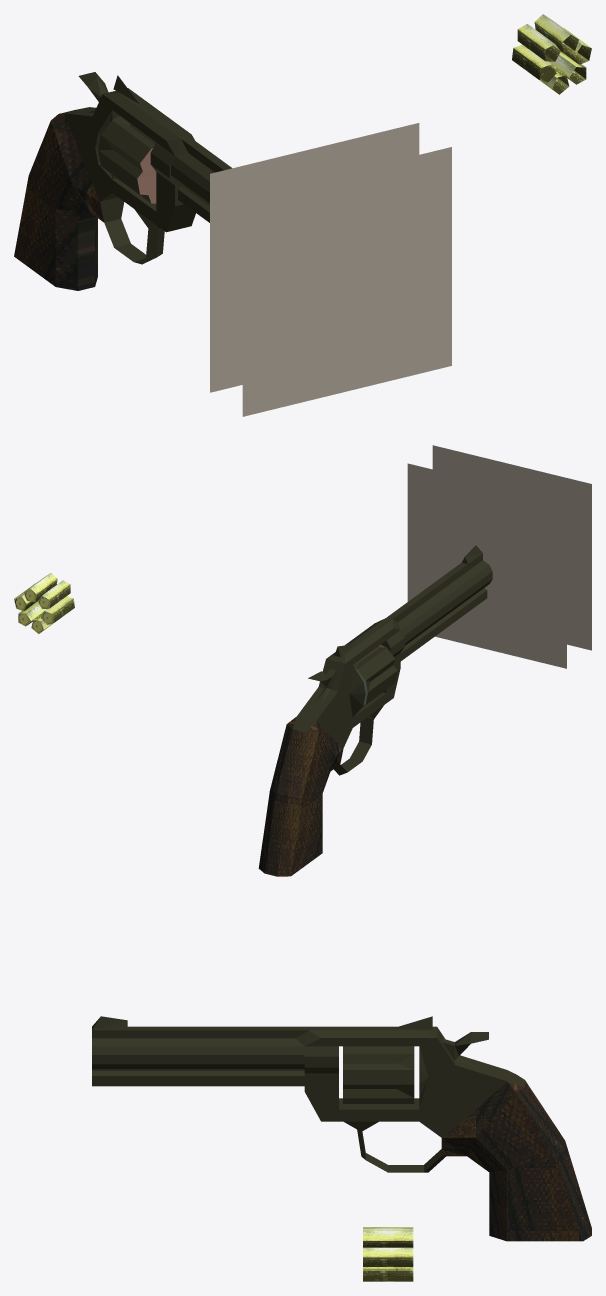
The model's file is 07-dy357-magnum-fp.glb.
3 renders of one model, top to bottom at view 1: azimuth 30°, elevation 25°; view 2: azimuth 150°, elevation 25°; view 3: azimuth 270°, elevation 25°, orthographic. The views are drawn at different scales.
Parts seen in each view (by area): view 1: gun; view 2: gun; view 3: gun.
Boxes of the visible parts, left/top/right/bottom form: gun: left=14, top=14, right=591, bottom=416; gun: left=14, top=445, right=591, bottom=876; gun: left=92, top=1016, right=591, bottom=1281.
Size of the model in its own units: 459 by 250 by 467.
Materials: 7 (7 with a texture image).
